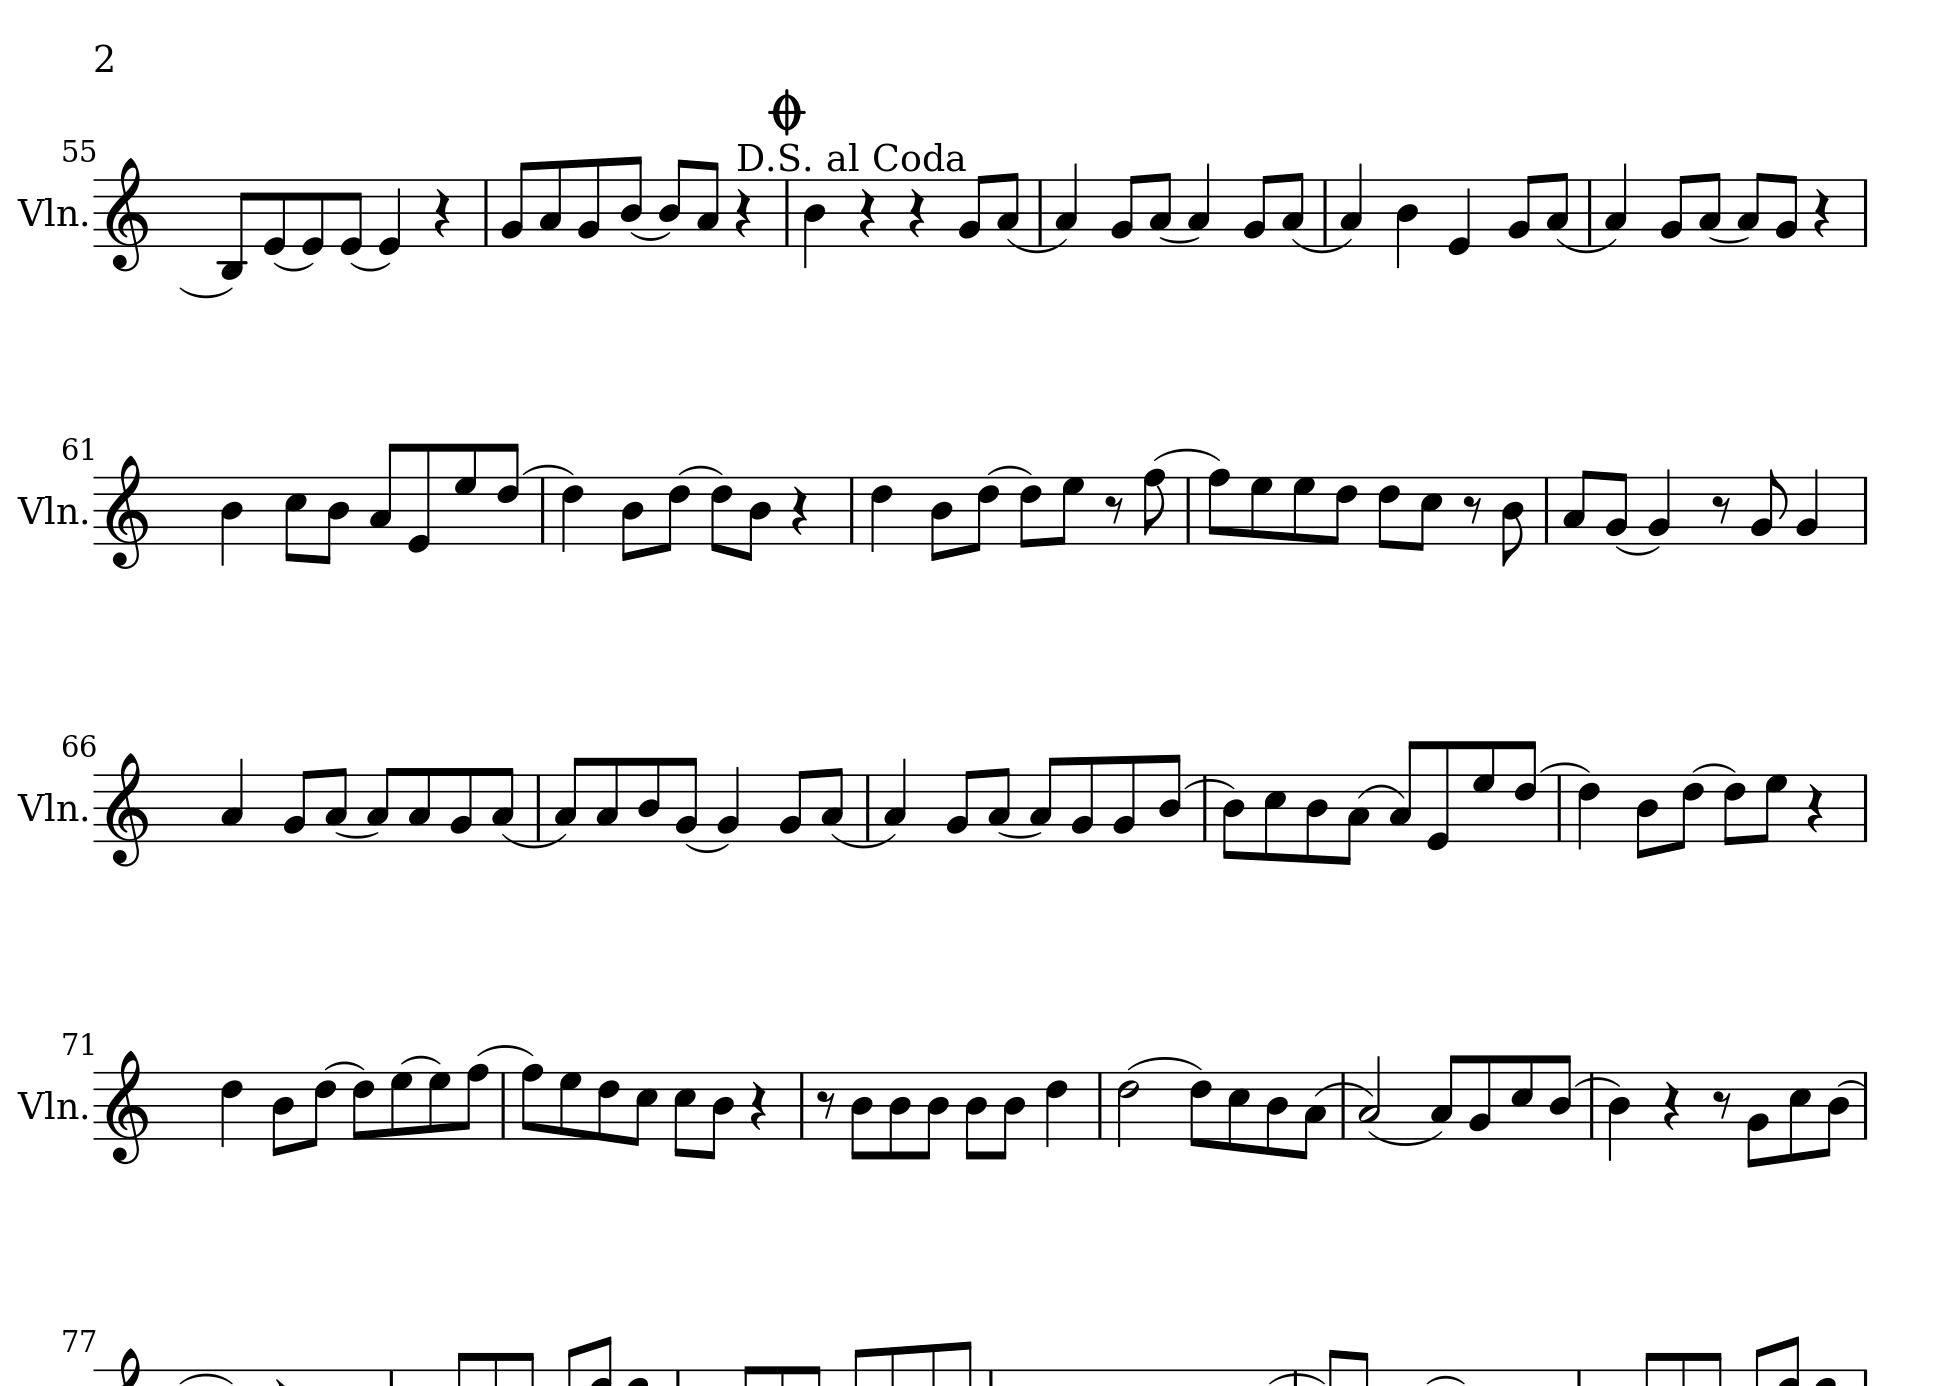1: (79, 433, 94, 463), (79, 1030, 94, 1059)
2: (91, 42, 115, 73)
2_3: (1356, 1051, 1383, 1141)
2_6: (1116, 1069, 1140, 1147)
4_0: (376, 175, 403, 258), (1447, 175, 1473, 256)
4_2: (715, 763, 742, 844), (1647, 466, 1674, 546), (1795, 466, 1822, 546)
4_3: (1339, 160, 1365, 247), (1056, 160, 1080, 247), (1188, 160, 1212, 247), (1605, 160, 1629, 247), (220, 756, 244, 843), (883, 756, 907, 843)
4_4: (219, 474, 244, 567), (1608, 1069, 1632, 1162), (1395, 177, 1419, 268), (802, 178, 826, 268)
4_6: (868, 474, 894, 553), (219, 1069, 244, 1149), (1044, 1069, 1069, 1149), (559, 474, 583, 553), (1576, 772, 1600, 852)
5: (79, 136, 97, 163), (61, 136, 78, 163)
6: (61, 433, 79, 462), (79, 732, 97, 760), (61, 732, 79, 759)
7: (79, 1324, 97, 1354), (61, 1029, 79, 1057), (61, 1326, 78, 1354)
8_-3: (217, 175, 253, 279)
8_0: (405, 441, 433, 556), (1425, 738, 1453, 853), (262, 175, 289, 256), (301, 175, 327, 256), (339, 175, 364, 256)
8_2: (1750, 466, 1789, 544), (499, 160, 532, 249), (1744, 1069, 1770, 1170), (576, 156, 603, 249), (1111, 754, 1138, 844), (777, 766, 808, 843), (280, 768, 312, 843), (1071, 754, 1096, 844), (1468, 1053, 1494, 1141), (957, 172, 987, 247), (1110, 172, 1140, 247), (1242, 172, 1272, 247), (1506, 172, 1536, 247), (1659, 172, 1689, 247), (945, 768, 975, 843), (673, 754, 697, 844), (448, 765, 474, 841), (1776, 172, 1800, 249), (1605, 469, 1629, 546)
8_3: (367, 441, 400, 547), (1389, 738, 1422, 844), (1296, 1069, 1329, 1162), (1339, 771, 1371, 867), (1429, 1051, 1462, 1141), (553, 754, 586, 841), (1029, 754, 1060, 843), (538, 159, 565, 250), (1561, 468, 1593, 546), (366, 765, 397, 841), (1737, 169, 1767, 247), (595, 754, 621, 843), (696, 160, 720, 249), (408, 765, 433, 843), (996, 169, 1020, 249), (1281, 169, 1305, 249), (490, 765, 514, 844), (324, 765, 348, 843), (820, 765, 844, 843), (987, 765, 1011, 843), (1149, 171, 1173, 247), (1698, 171, 1722, 247), (1546, 169, 1569, 249)
8_4: (993, 1069, 1026, 1161), (658, 157, 688, 249), (319, 474, 349, 565), (703, 1069, 733, 1161), (919, 1069, 949, 1161), (1821, 1068, 1851, 1158), (1500, 475, 1527, 568), (742, 475, 771, 562), (1158, 751, 1183, 844), (1303, 772, 1329, 865), (849, 1069, 874, 1162), (886, 1069, 912, 1161), (619, 154, 643, 249), (619, 474, 645, 562), (1221, 772, 1246, 861), (270, 1069, 295, 1158), (1264, 1069, 1290, 1158), (1548, 1053, 1573, 1141), (964, 1069, 988, 1162), (928, 475, 954, 562), (637, 754, 661, 843), (1635, 772, 1659, 861)
8_5: (1411, 474, 1444, 552), (1785, 1069, 1812, 1162), (628, 1069, 658, 1147), (1510, 1053, 1536, 1141), (283, 474, 307, 564), (1263, 772, 1287, 862), (672, 1069, 696, 1159), (1227, 1069, 1251, 1152)
8_6: (1512, 738, 1539, 844), (495, 441, 520, 546), (658, 472, 691, 553), (969, 474, 1002, 553), (1674, 771, 1707, 850), (307, 1069, 337, 1147), (1329, 474, 1359, 546), (708, 474, 733, 556), (1720, 771, 1747, 847), (1188, 1069, 1213, 1149), (1017, 474, 1044, 549), (1375, 474, 1401, 550), (351, 1069, 376, 1141), (595, 1069, 619, 1144)
8_7: (451, 441, 478, 544), (1471, 738, 1497, 844), (1053, 475, 1086, 547), (1756, 772, 1788, 844), (388, 1069, 415, 1141), (558, 1069, 583, 1141), (1291, 475, 1317, 546), (1249, 475, 1275, 544), (427, 1069, 451, 1141)
8_8: (459, 1062, 490, 1141), (1141, 466, 1168, 546), (1206, 466, 1233, 546), (520, 1062, 544, 1141)
Coda: (766, 88, 805, 136)
DSalcoda: (733, 139, 967, 178)
Gclef: (103, 1047, 150, 1165), (103, 451, 148, 571), (103, 750, 148, 868), (103, 154, 148, 271)
Rests4: (430, 184, 453, 241), (789, 484, 811, 538), (1804, 780, 1825, 835), (733, 184, 754, 238), (1812, 184, 1833, 238), (1662, 1078, 1683, 1132), (856, 186, 877, 238), (906, 186, 927, 238), (748, 1078, 768, 1132)
Rests8: (1710, 493, 1734, 525), (814, 1087, 837, 1120), (1711, 1087, 1734, 1120), (1462, 493, 1485, 525), (1104, 493, 1125, 526)
Single_barline: (841, 475, 861, 543), (1857, 475, 1875, 544), (1857, 178, 1875, 246), (1857, 774, 1875, 841), (477, 178, 495, 244), (529, 772, 547, 838), (1092, 1072, 1110, 1138), (1317, 178, 1335, 243), (1032, 178, 1050, 243), (1551, 775, 1569, 840), (793, 1071, 810, 1138), (1858, 1072, 1875, 1140), (778, 178, 795, 244), (1582, 178, 1599, 243), (859, 774, 876, 838), (1197, 777, 1213, 841), (534, 478, 550, 541), (1539, 475, 1554, 544), (496, 1072, 511, 1138), (1182, 477, 1197, 541), (1584, 1074, 1599, 1138)
Slur: (1128, 1054, 1206, 1072), (1366, 1128, 1443, 1146), (1152, 447, 1221, 463), (1291, 237, 1354, 253), (1314, 1081, 1374, 1098), (1555, 237, 1620, 252), (502, 832, 567, 847), (831, 832, 895, 847), (175, 283, 235, 298), (475, 1042, 535, 1057), (1005, 238, 1071, 252), (178, 1371, 234, 1386), (1359, 783, 1404, 801), (1540, 760, 1590, 774), (987, 463, 1033, 477), (523, 463, 574, 475), (1692, 760, 1737, 774), (400, 1051, 441, 1066), (324, 1057, 364, 1072), (1575, 1075, 1623, 1087), (684, 841, 730, 853), (678, 463, 723, 475), (1185, 778, 1236, 789), (628, 229, 672, 241), (1159, 232, 1201, 244), (349, 259, 391, 271), (1614, 544, 1662, 555), (997, 828, 1044, 838), (273, 259, 313, 271), (1426, 1372, 1467, 1384), (1707, 232, 1752, 243), (334, 828, 379, 838), (1836, 1077, 1864, 1089)
Vln: (16, 190, 79, 234), (18, 1083, 78, 1126), (16, 489, 78, 531), (18, 786, 78, 828)
